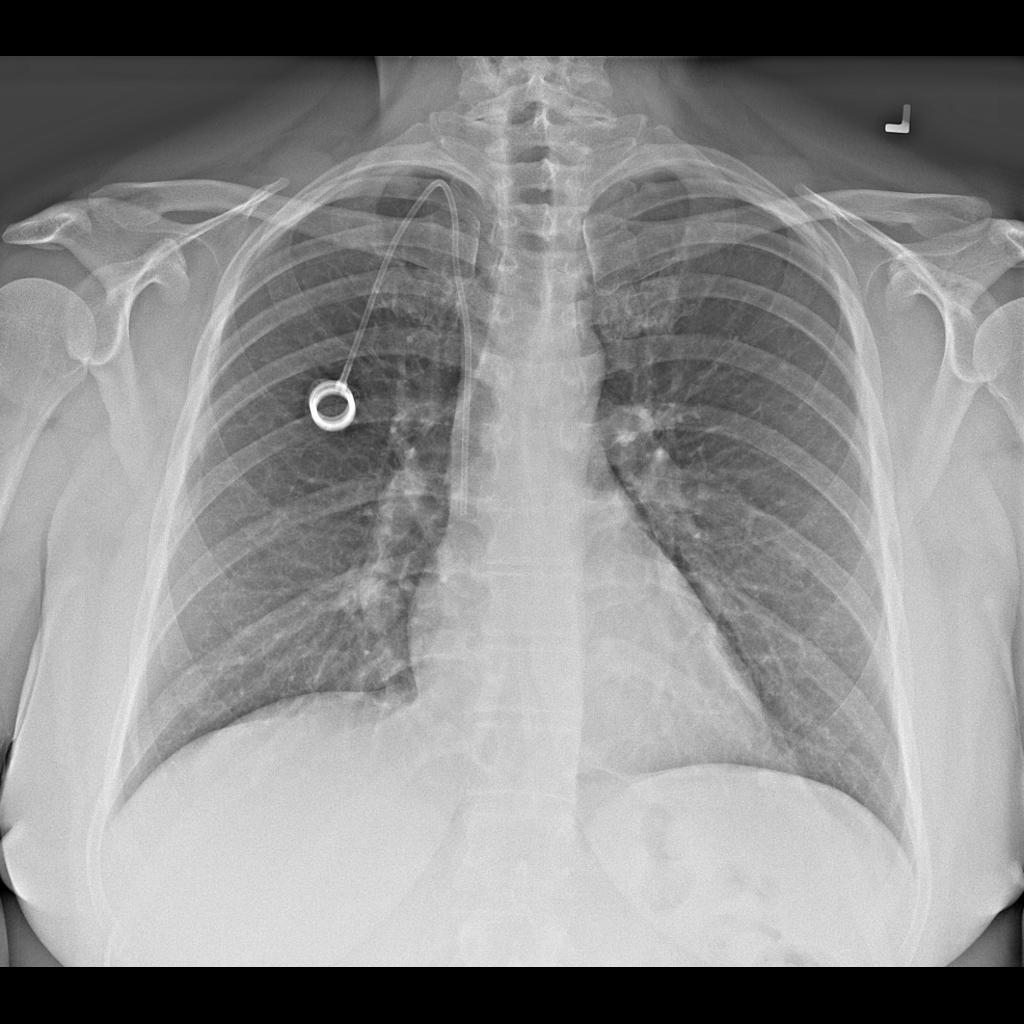Nodule: (334, 563, 414, 639)
